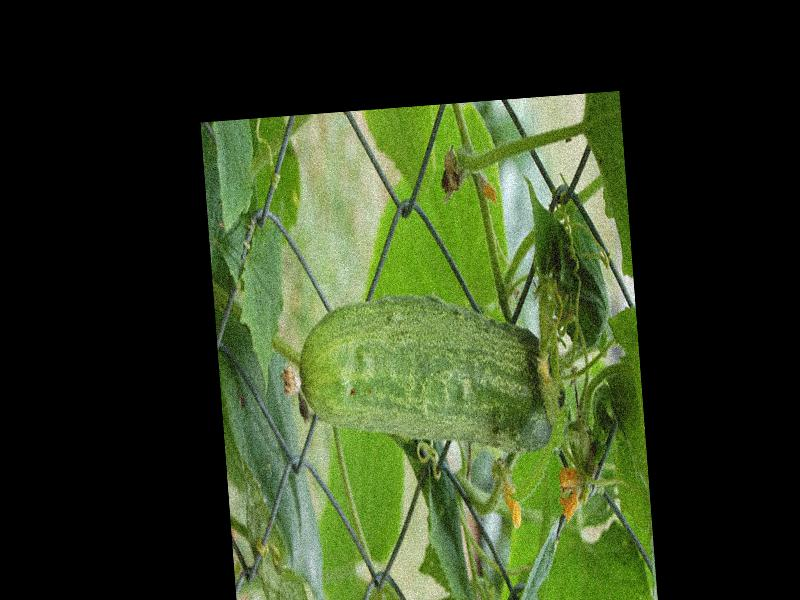Cucumber: (279, 288, 566, 465)
